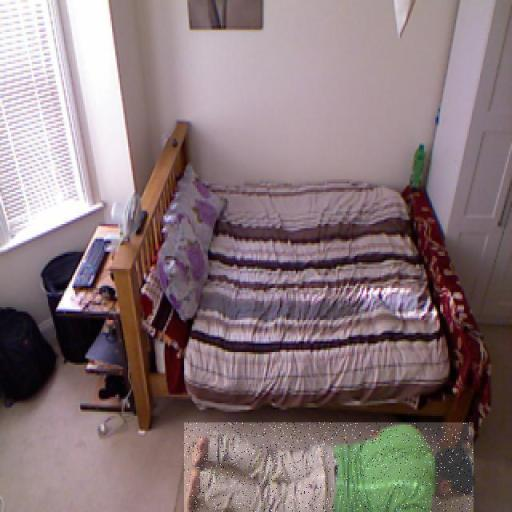Fall: (184, 422, 474, 512)
